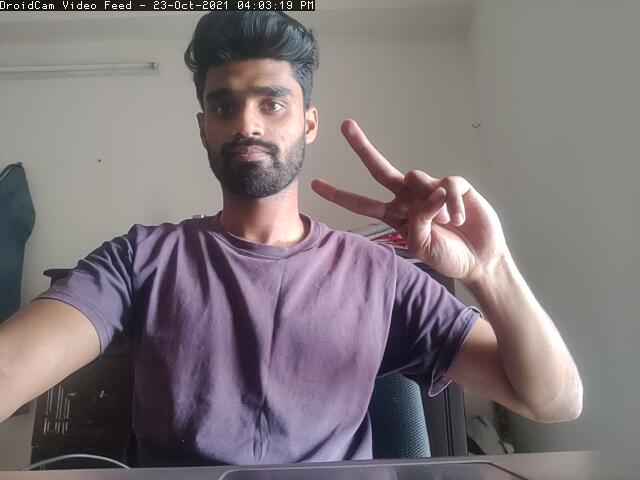Victory: (310, 118, 503, 276)
